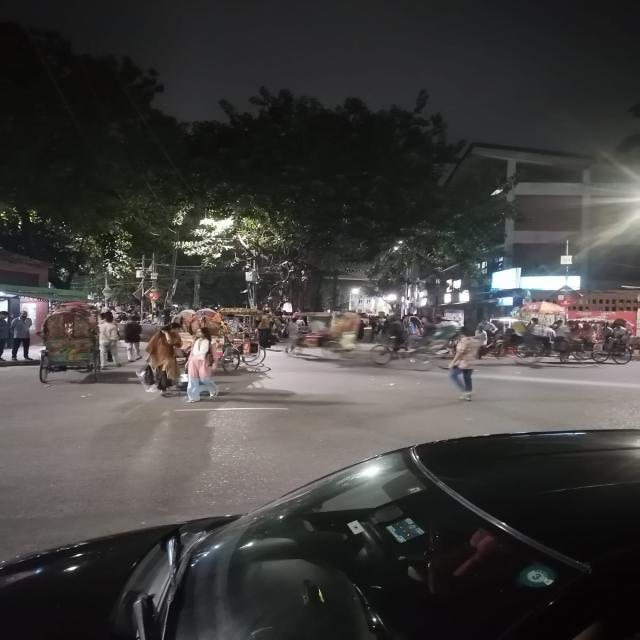person: (146, 322, 182, 397), (449, 326, 480, 402), (187, 327, 218, 403)
